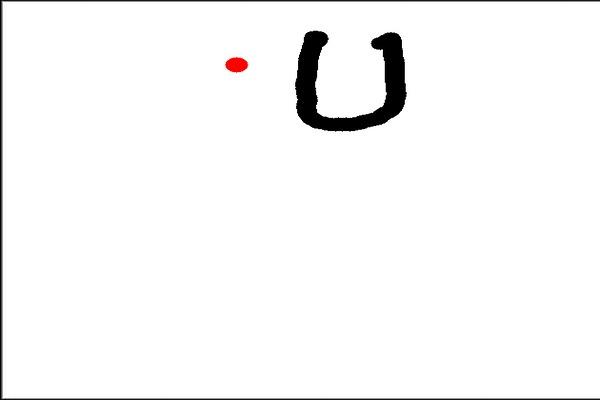U: (289, 17, 419, 125)
